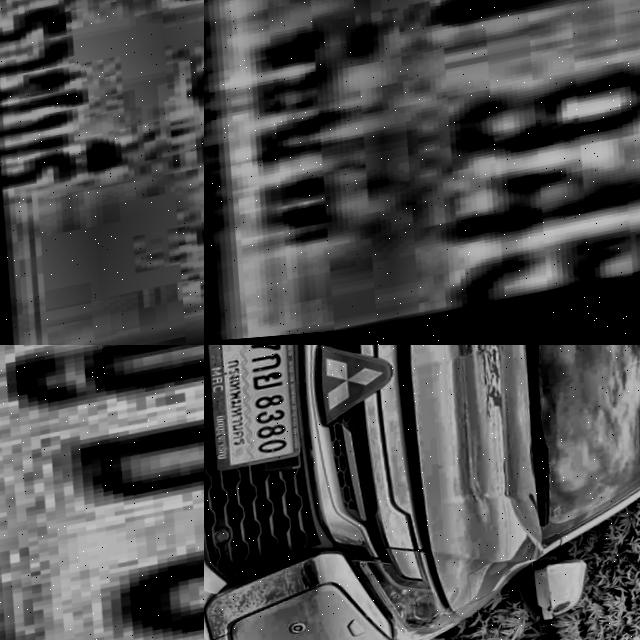license-plate: (204, 0, 640, 345), (0, 0, 204, 345), (0, 345, 204, 640), (204, 345, 314, 481)
